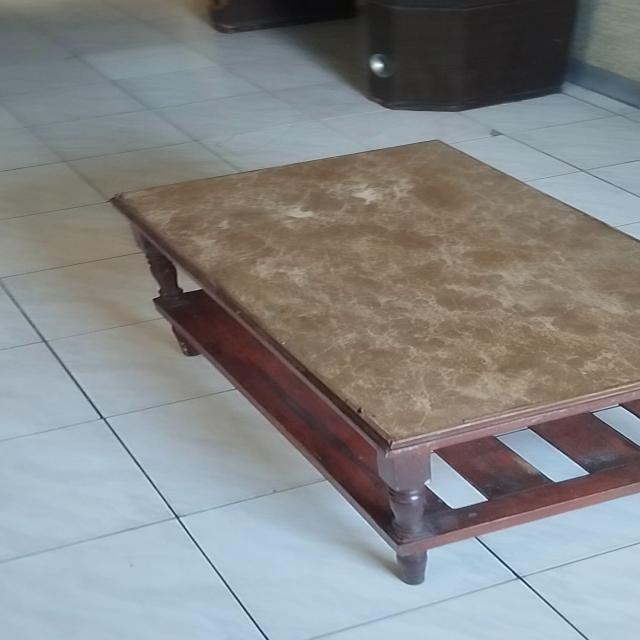table: (107, 134, 640, 586)
